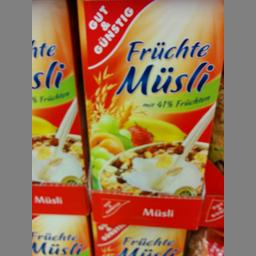cereal: (76, 0, 222, 194), (31, 0, 87, 191)
